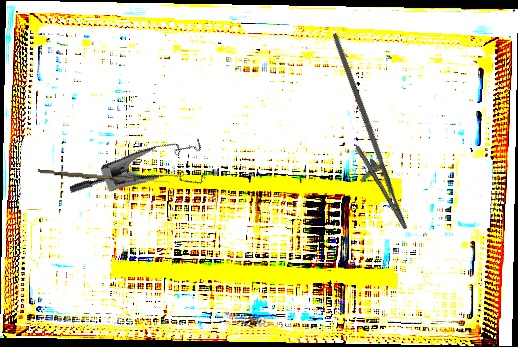Needle Holder: (295, 32, 431, 238)
Speculum: (66, 115, 220, 244)
Surgical Spoon: (37, 169, 171, 185)
